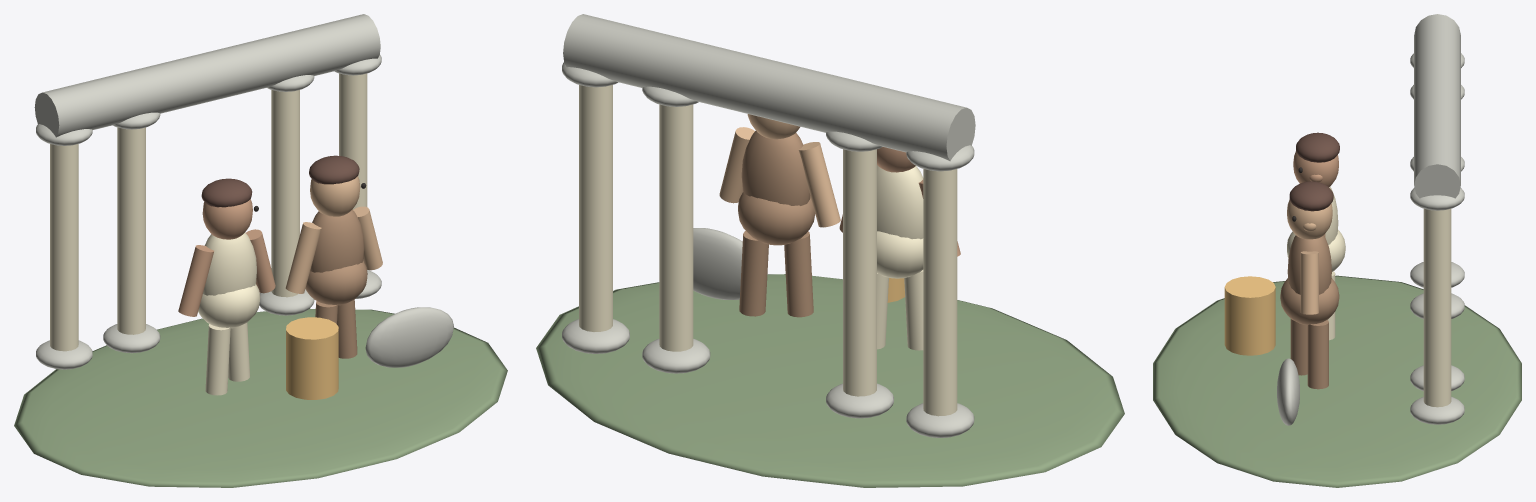
Rendered from ancient-scene.gltf.
3 renders of one model, left to right at view 1: azimuth 30°, elevation 25°; view 2: azimuth 150°, elevation 25°; view 3: azimuth 270°, elevation 25°, orthographic. The views are drawn at different scales.
Parts seen in each view (by area): view 1: Ground, TempleColumn (×4), TempleLintel, Body (×2), JarBody, Tablet, TunicSkirt (×2), ColumnBase (×3), Face (×2), LeftArm (×2), Hair (×2), RightLeg (×2) (+3 smaller); view 2: Ground, TempleColumn (×4), TempleLintel, Body (×2), ColumnBase (×4), TunicSkirt (×2), LeftLeg (×2), Tablet, ColumnCapital (×4), RightLeg (×2), LeftArm, Face (×2) (+1 smaller); view 3: Ground, TempleLintel, TempleColumn, JarBody, ColumnBase (×4), Hair (×2), Face (×2), TunicSkirt (×2), Body, RightLeg, Tablet, RightArm (+2 smaller).
Part boxes in pixels (left/top/right/bottom): Ground: left=14, top=308, right=507, bottom=487; TempleColumn (×4): left=50, top=73, right=367, bottom=351; TempleLintel: left=34, top=14, right=380, bottom=137; Body (×2): left=203, top=209, right=364, bottom=295; JarBody: left=286, top=317, right=338, bottom=399; Tablet: left=365, top=307, right=453, bottom=367; TunicSkirt (×2): left=198, top=261, right=367, bottom=328; ColumnBase (×3): left=36, top=289, right=314, bottom=369; Face (×2): left=202, top=176, right=360, bottom=239; LeftArm (×2): left=178, top=222, right=321, bottom=316; Hair (×2): left=201, top=155, right=359, bottom=207; RightLeg (×2): left=228, top=299, right=357, bottom=381; Ground: left=536, top=274, right=1124, bottom=487; TempleColumn (×4): left=579, top=85, right=957, bottom=416; TempleLintel: left=563, top=14, right=975, bottom=161; Body (×2): left=741, top=131, right=923, bottom=239; ColumnBase (×4): left=562, top=319, right=974, bottom=437; TunicSkirt (×2): left=738, top=192, right=923, bottom=278; LeftLeg (×2): left=784, top=231, right=923, bottom=350; Tablet: left=693, top=228, right=742, bottom=299; ColumnCapital (×4): left=562, top=62, right=974, bottom=171; RightLeg (×2): left=739, top=231, right=888, bottom=349; LeftArm: left=798, top=142, right=840, bottom=227; Face (×2): left=747, top=114, right=915, bottom=172; Ground: left=1153, top=275, right=1521, bottom=487; TempleLintel: left=1414, top=14, right=1460, bottom=198; TempleColumn: left=1423, top=208, right=1451, bottom=407; JarBody: left=1224, top=276, right=1275, bottom=355; ColumnBase (×4): left=1410, top=262, right=1464, bottom=424; Hair (×2): left=1289, top=132, right=1339, bottom=211; Face (×2): left=1287, top=151, right=1338, bottom=239; TunicSkirt (×2): left=1280, top=230, right=1345, bottom=324; Body: left=1287, top=235, right=1331, bottom=294; RightLeg: left=1307, top=320, right=1328, bottom=389; Tablet: left=1277, top=358, right=1299, bottom=425; RightArm: left=1300, top=251, right=1318, bottom=314.
Size of the model in its own units: 2.36 by 1.57 by 1.73.
